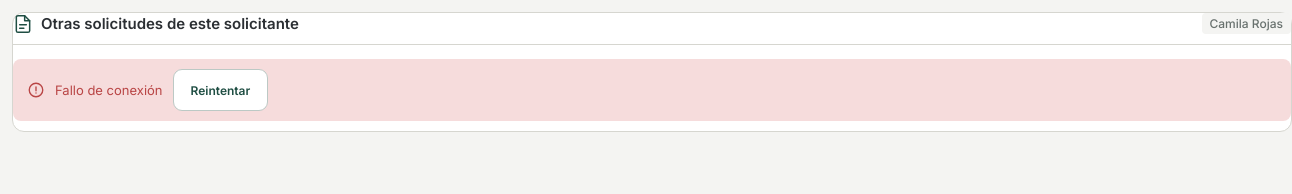
it: Detección de duplicados - Servicio y Componente › Componente SolicitudesSolicitantePanel - Estados de UI › muestra estado de error y permite reintentar
Expected: the text "Fallo de conexión" is shown, [55, 82, 162, 98]
Step 1. Click the button "Reintentar" → click(220, 90), box [172, 69, 268, 111]
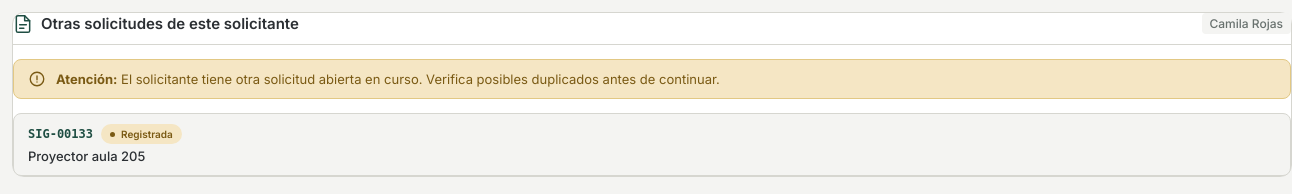
Now the text "SIG-00133" is shown, box [28, 127, 93, 141]
